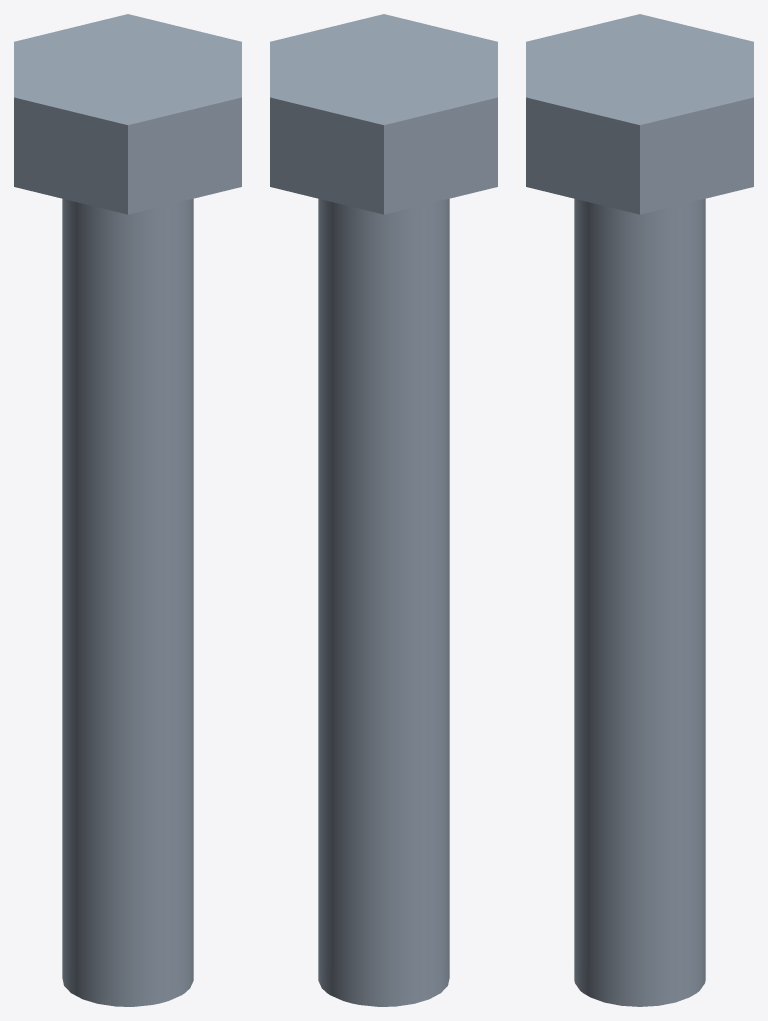
Rendered from rocker_arm_bolt.obj.
3 renders of one model, left to right at view 1: azimuth 30°, elevation 25°; view 2: azimuth 150°, elevation 25°; view 3: azimuth 270°, elevation 25°, orthographic.
Parts seen in each view (by area): view 1: 1; view 2: 1; view 3: 1.
Boxes of the visible parts, x1,y1,x2,y2 form: 1: (14, 14, 241, 1006); 1: (270, 14, 497, 1006); 1: (526, 14, 753, 1006).
Bounding box in the file's own units: 16 × 61 × 13.86.
